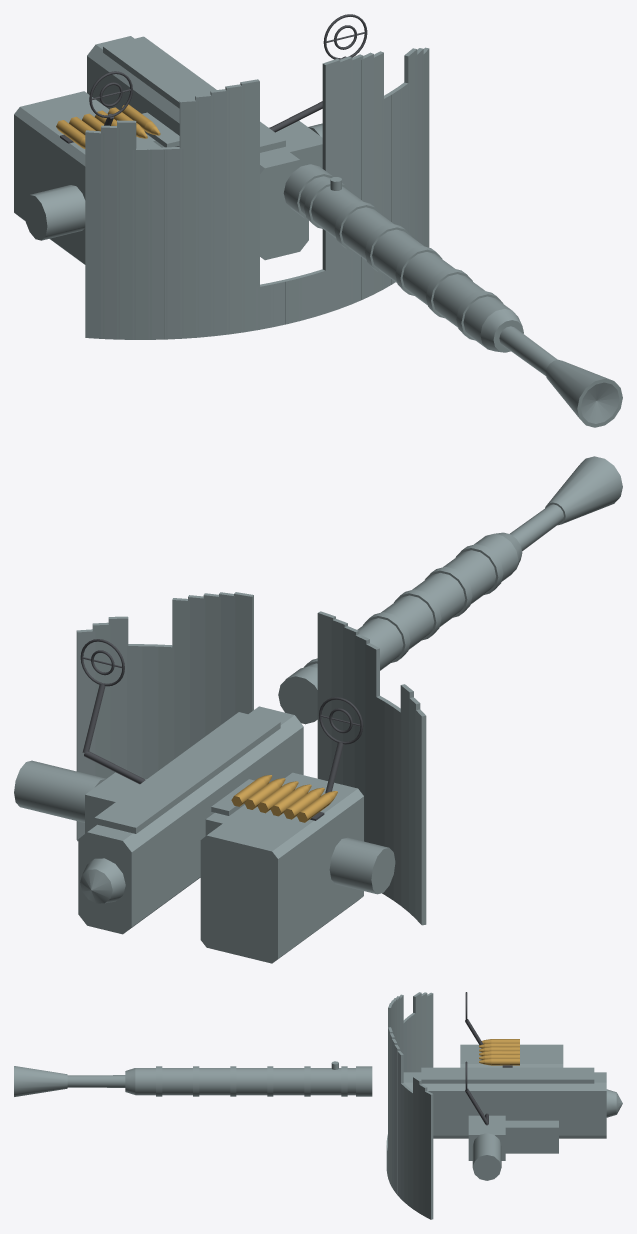
The model's file is qf2pdr_single.obj.
3 views of the same model, one above another, from view 1: azimuth 30°, elevation 25°; view 2: azimuth 150°, elevation 25°; view 3: azimuth 270°, elevation 25° (orthographic). The views are drawn at different scales.
Visible parts, largest first — view 1: yaw_0, turret_0, barrel_0, turret_2, turret_1; view 2: turret_0, yaw_0, barrel_0, turret_1, turret_2; view 3: turret_0, yaw_0, barrel_0, turret_1, turret_2.
Boxes of the visible parts, x1=… form: yaw_0: x1=85, y1=47, x2=429, y2=339; turret_0: x1=14, y1=36, x2=322, y2=264; barrel_0: x1=283, y1=164, x2=622, y2=427; turret_2: x1=60, y1=14, x2=367, y2=143; turret_1: x1=56, y1=104, x2=160, y2=148; turret_0: x1=14, y1=706, x2=395, y2=963; yaw_0: x1=76, y1=592, x2=426, y2=925; barrel_0: x1=278, y1=456, x2=622, y2=724; turret_1: x1=231, y1=775, x2=337, y2=822; turret_2: x1=80, y1=639, x2=363, y2=820; turret_0: x1=403, y1=1044, x2=622, y2=1180; yaw_0: x1=386, y1=992, x2=433, y2=1219; barrel_0: x1=14, y1=1061, x2=372, y2=1096; turret_1: x1=479, y1=1039, x2=519, y2=1065; turret_2: x1=465, y1=992, x2=512, y2=1125.
Size of the model in its own units: 1.2 by 0.8108 by 2.96.
